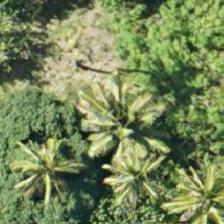coconut_tree: (76, 108, 166, 198), (53, 112, 143, 202), (1, 128, 91, 218), (122, 137, 212, 223), (137, 171, 223, 223)
